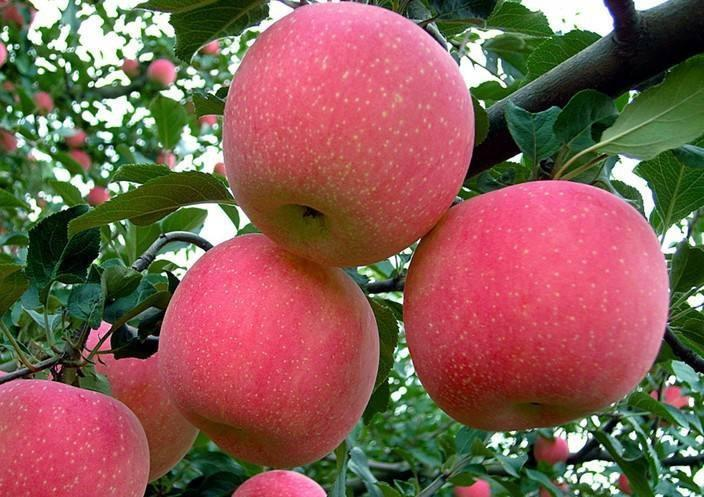apple: (213, 5, 474, 267), (406, 181, 671, 437), (154, 233, 384, 465), (1, 378, 152, 494), (531, 432, 570, 468)
